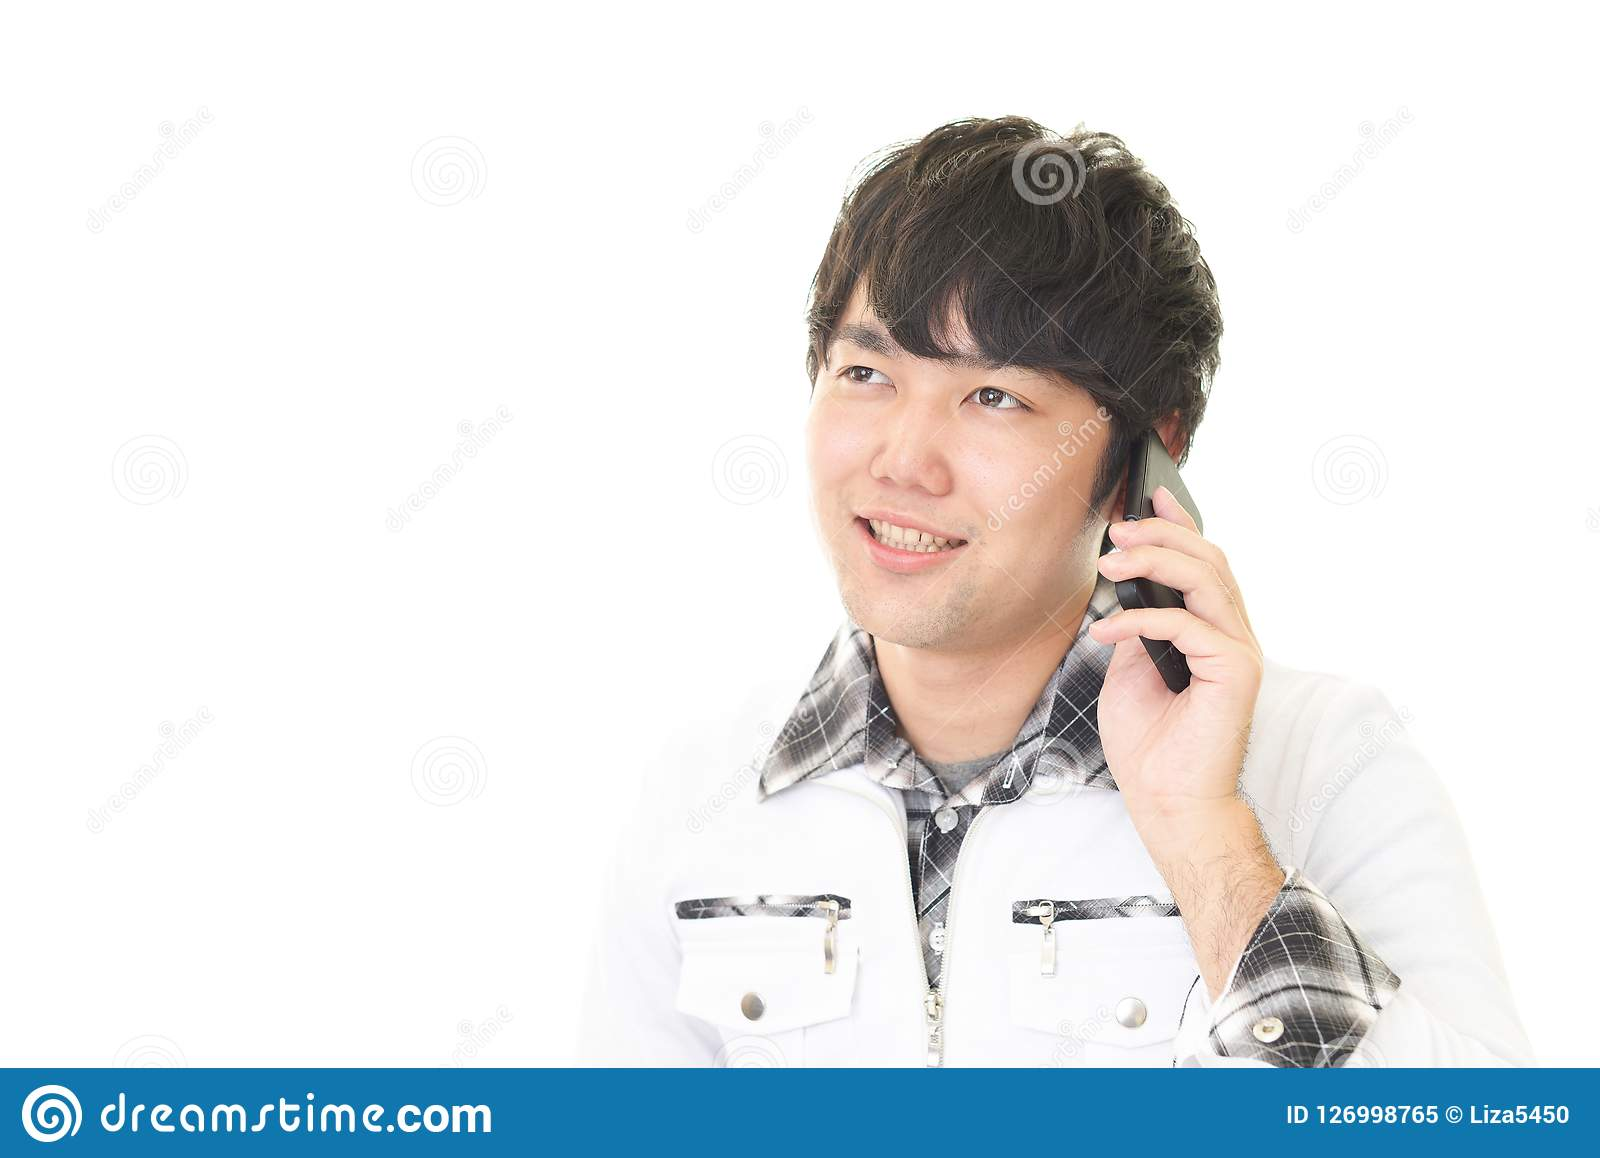phone: (1117, 411, 1204, 693)
talk: (806, 309, 1263, 823)
